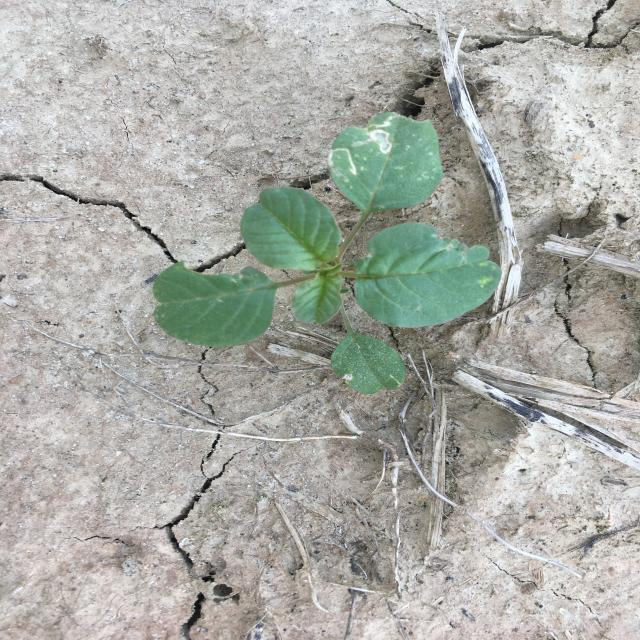PalmerAmaranth: (153, 112, 502, 394)
